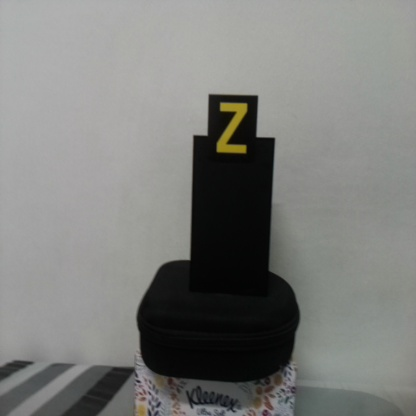id_15: (208, 94, 257, 169)
